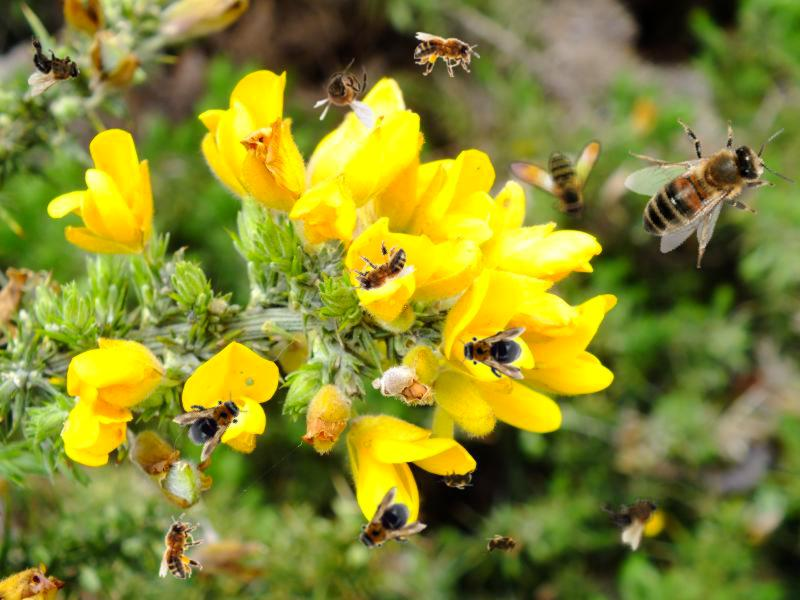Bee: (596, 75, 800, 291), (499, 116, 609, 224), (170, 379, 256, 463), (343, 485, 429, 569), (593, 473, 674, 555), (338, 232, 418, 309), (313, 58, 374, 128), (458, 327, 526, 379), (28, 35, 81, 97), (159, 513, 204, 579), (414, 32, 480, 77), (482, 534, 522, 556), (437, 468, 477, 490)
